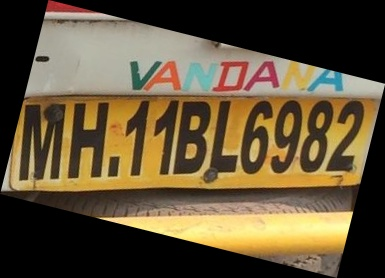character: (19, 103, 66, 181), (66, 101, 109, 179), (326, 99, 364, 171), (173, 102, 210, 174), (297, 99, 332, 173), (269, 100, 303, 173), (240, 101, 273, 175), (209, 100, 239, 172), (153, 99, 179, 174), (124, 99, 149, 176)
